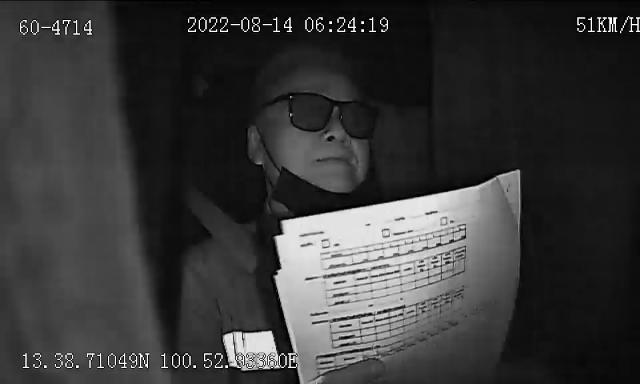Seatbelt: (178, 174, 262, 290)
